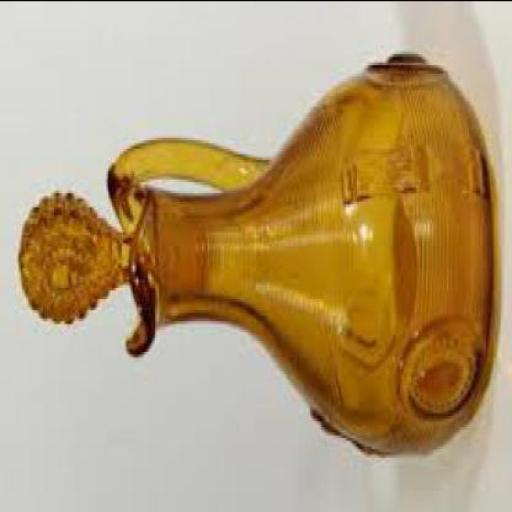glass: (17, 55, 499, 459)
